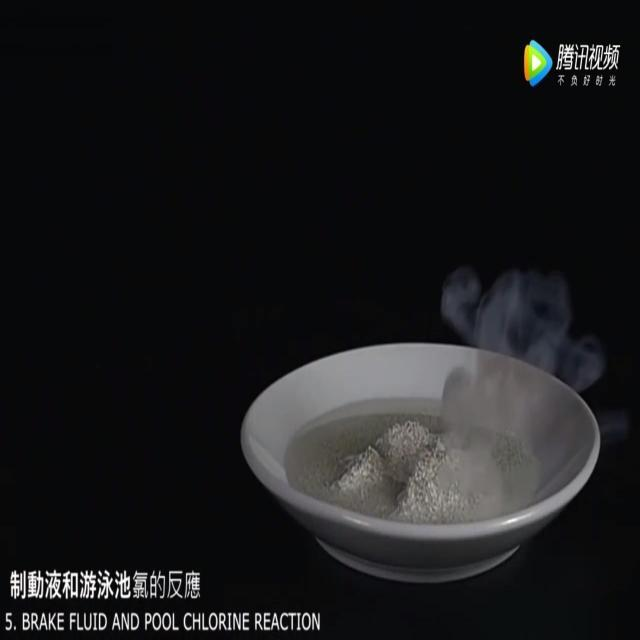Smoke: (436, 261, 640, 531)
